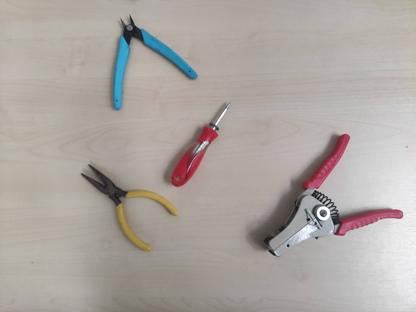Screwdriver: (168, 99, 233, 189)
